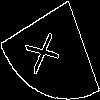X: (24, 24, 67, 76)
